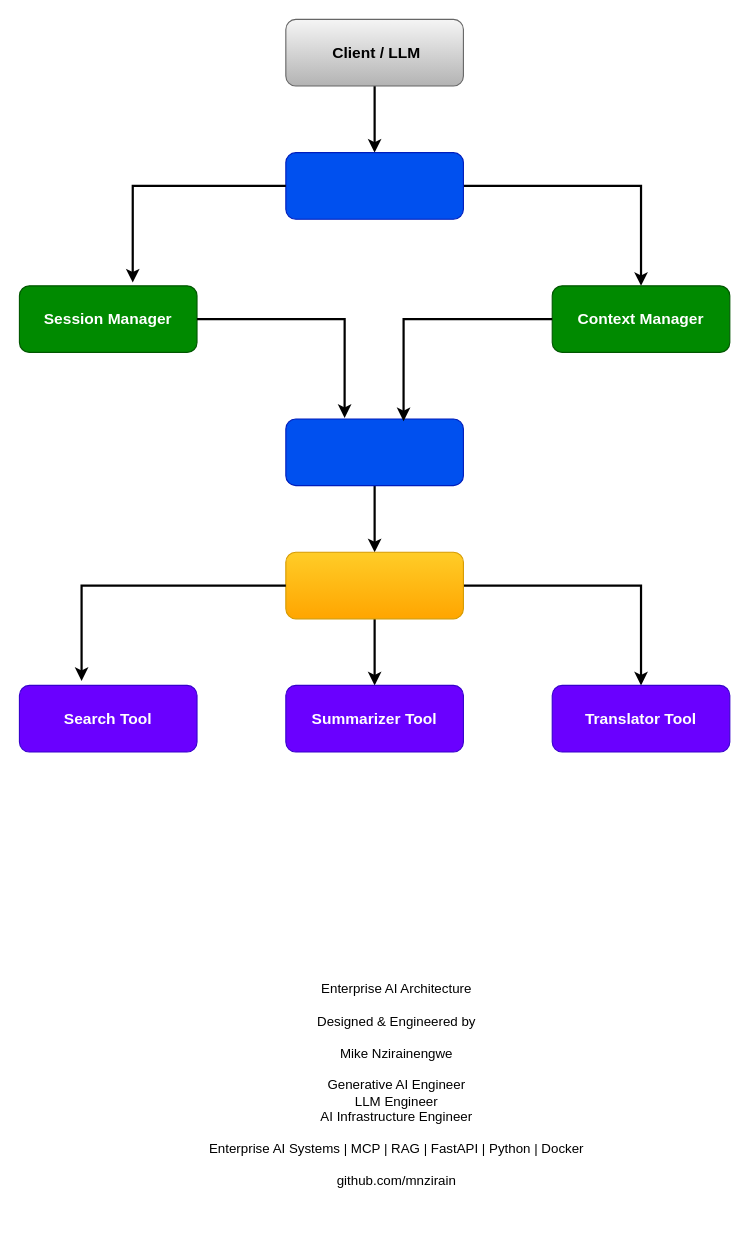
The diagram is 749 pixels wide and 1238 high, and some of its shapes have lost their labels. The shapes that lost their labels are listed below. From the top down, each one's centre as x and y in pixels, then its label:
point 374,185: FastAPI MCP Server
point 374,452: MCP Server Engine
point 374,585: Tool Registry
